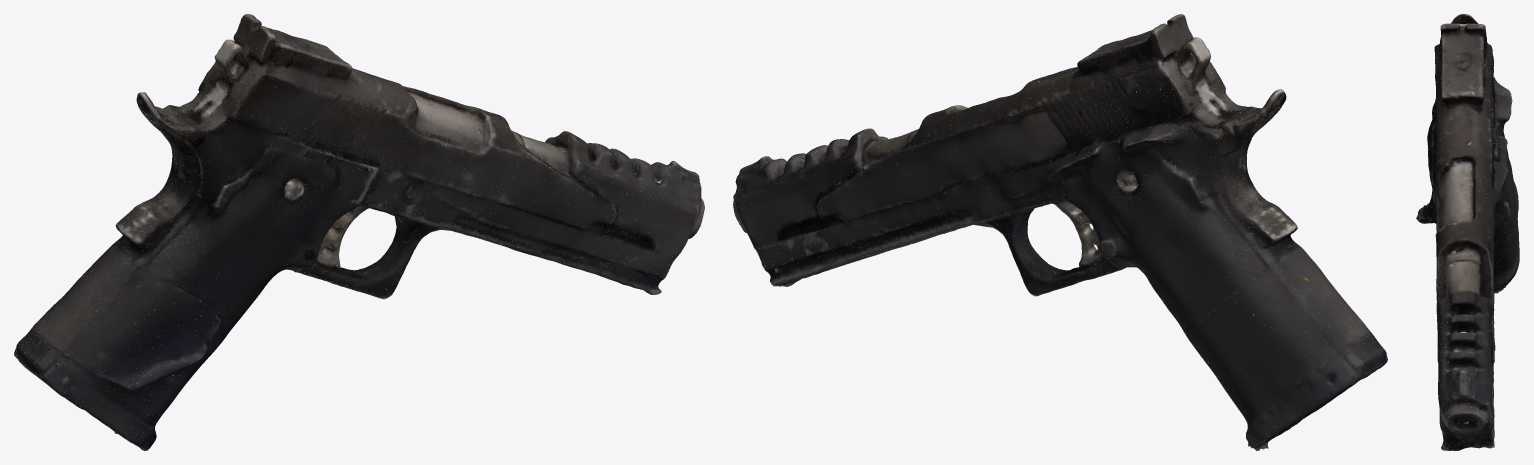
The model's file is weapon-transformed.glb.
The picture shows the model from 3 angles, left to right: view 1: azimuth 30°, elevation 25°; view 2: azimuth 150°, elevation 25°; view 3: azimuth 270°, elevation 25°; orthographic projection. The views are drawn at different scales.
Visible parts, largest first — view 1: cqb; view 2: cqb; view 3: cqb.
Part boxes in pixels (left/top/right/bottom): cqb: left=14, top=14, right=704, bottom=450; cqb: left=733, top=14, right=1387, bottom=450; cqb: left=1416, top=14, right=1519, bottom=450.
Bounding box in the file's own units: 1.9 × 1.07 × 0.3253.
Materials: 26 (26 with a texture image).
